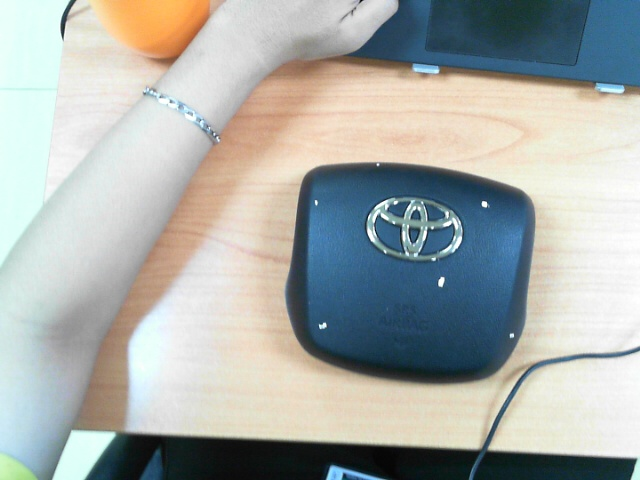Airbag: (437, 276, 446, 289), (318, 321, 328, 330), (480, 200, 489, 209), (314, 199, 319, 208), (509, 332, 515, 339), (375, 162, 381, 168)
